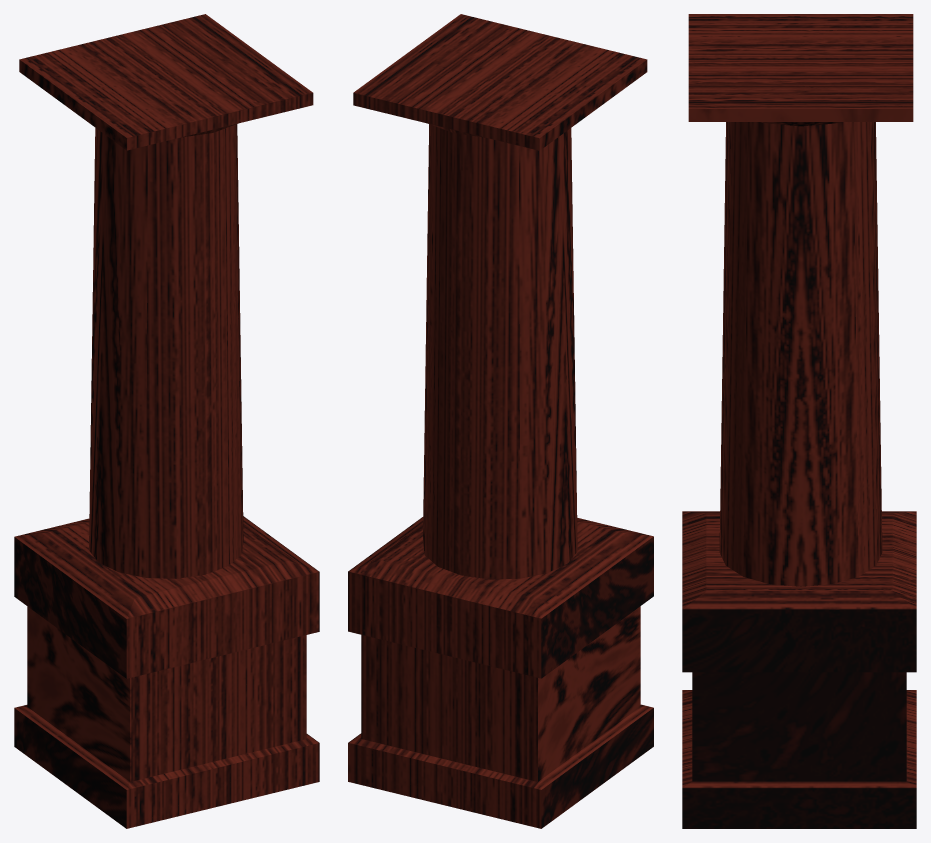
Rendered from Pillow.glb.
3 renders of one model, left to right at view 1: azimuth 30°, elevation 25°; view 2: azimuth 150°, elevation 25°; view 3: azimuth 270°, elevation 25°, orthographic. The views are drawn at different scales.
Parts seen in each view (by area): view 1: Pillow_Baked; view 2: Pillow_Baked; view 3: Pillow_Baked.
Boxes of the visible parts, left/top/right/bottom form: Pillow_Baked: left=14, top=14, right=319, bottom=828; Pillow_Baked: left=348, top=14, right=653, bottom=828; Pillow_Baked: left=682, top=14, right=916, bottom=828.
Size of the model in its own units: 0.613 by 2.09 by 0.6176.
Materials: 1 (1 with a texture image).
